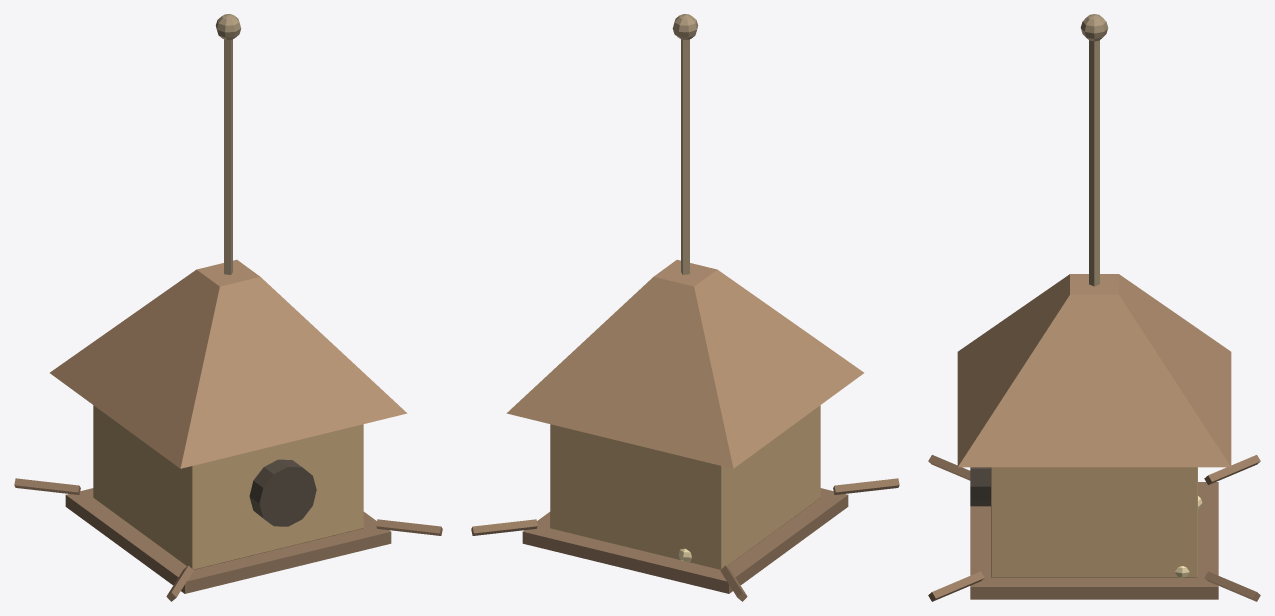
File: bird_feeder.glb
3 renders of one model, left to right at view 1: azimuth 30°, elevation 25°; view 2: azimuth 150°, elevation 25°; view 3: azimuth 270°, elevation 25°, orthographic. The views are drawn at different scales.
Visible parts, largest first — view 1: bird_feeder; view 2: bird_feeder; view 3: bird_feeder.
Boxes of the visible parts, x1,y1,x2,y2 form: bird_feeder: [14, 14, 442, 601]; bird_feeder: [471, 14, 899, 601]; bird_feeder: [928, 14, 1260, 601].
Bounding box in the file's own units: 0.482 × 0.85 × 0.482.
